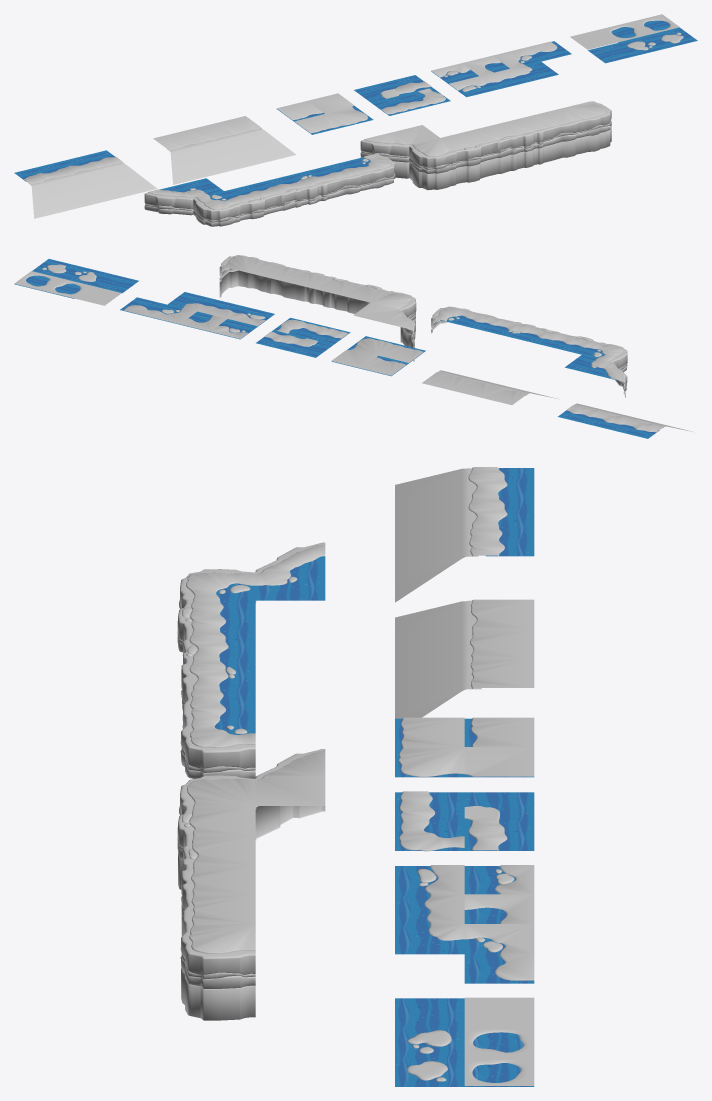
The model's file is Tileset_Ice_Editor.fbx.
The picture shows the model from 3 angles, top to bottom: view 1: azimuth 30°, elevation 25°; view 2: azimuth 150°, elevation 25°; view 3: azimuth 270°, elevation 25°; orthographic projection. The views are drawn at different scales.
Visible parts, largest first — view 1: slopeA_left, slopeA_right, slopeB_right, slopeB_left, slopeA_middle, slopeB_middle, corner_A2, corner_B2, cross_cornerB, middle_A1, corner_A1, middle_A4 (+37 smaller); view 2: corner1_support, corner_B2, corner_A2, corner_B1, corner_A1, slopeB_left, slopeA_left, slopeB_right, slopeB_middle, slopeA_right, slopeA_middle, middle_B1 (+35 smaller); view 3: slopeA_left, slopeB_right, slopeB_left, corner_A1, slopeA_right, corner_B1, slopeA_middle, slopeB_middle, middle_B1, middle_A1, corner1_support, middle_B3 (+33 smaller).
Part boxes in pixels (<box>): slopeA_left: <box>153,131,218,184</box>; slopeA_right: <box>215,116,296,165</box>; slopeB_right: <box>76,150,157,199</box>; slopeB_left: <box>14,165,80,218</box>; slopeA_middle: <box>184,123,249,173</box>; slopeB_middle: <box>45,158,110,207</box>; corner_A2: <box>409,138,458,173</box>; corner_B2: <box>193,191,241,226</box>; cross_cornerB: <box>144,185,193,215</box>; middle_A1: <box>441,130,488,167</box>; corner_A1: <box>564,101,611,137</box>; middle_A4: <box>533,108,581,144</box>; corner1_support: <box>219,270,267,297</box>; corner_B2: <box>582,342,627,372</box>; corner_A2: <box>371,291,416,320</box>; corner_B1: <box>431,306,477,333</box>; corner_A1: <box>219,255,266,281</box>; slopeB_left: <box>618,419,694,438</box>; slopeA_left: <box>482,386,559,404</box>; slopeB_right: <box>558,403,620,423</box>; slopeB_middle: <box>588,411,650,431</box>; slopeA_right: <box>422,370,485,390</box>; slopeA_middle: <box>452,378,515,397</box>; middle_B1: <box>552,335,598,354</box>; slopeA_left: <box>395,599,534,661</box>; slopeB_right: <box>395,526,534,602</box>; slopeB_left: <box>395,467,534,528</box>; corner_A1: <box>180,924,255,988</box>; slopeA_right: <box>395,658,534,718</box>; corner_B1: <box>180,717,255,778</box>; slopeA_middle: <box>395,629,534,690</box>; slopeB_middle: <box>395,496,534,558</box>; middle_B1: <box>177,599,255,652</box>; middle_A1: <box>177,806,255,858</box>; corner1_support: <box>181,968,255,1020</box>; middle_B3: <box>181,658,255,710</box>.
Bounding box in the file's own units: 4300 × 205 × 1024.
